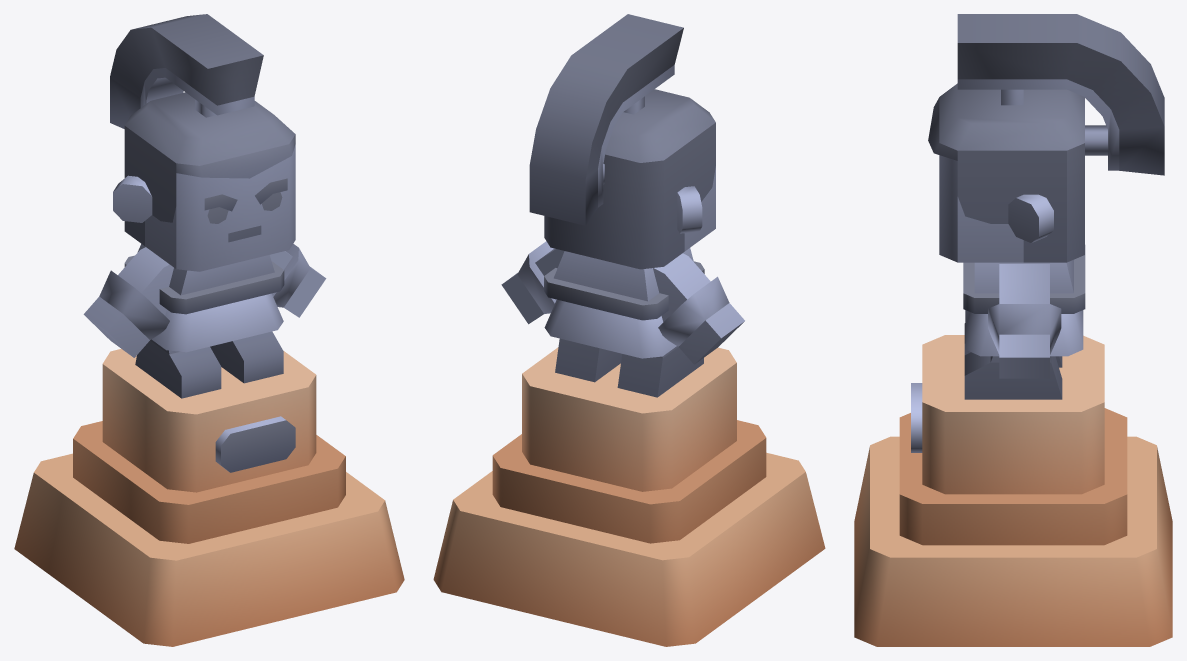
The model's file is ken_statue.glb.
3 views of the same model, side by side, from view 1: azimuth 30°, elevation 25°; view 2: azimuth 150°, elevation 25°; view 3: azimuth 270°, elevation 25° (orthographic). The views are drawn at different scales.
Visible parts, largest first — view 1: statue; view 2: statue; view 3: statue.
Boxes of the visible parts, bbox=[...] form: statue: bbox=[14, 14, 404, 646]; statue: bbox=[433, 14, 825, 646]; statue: bbox=[854, 14, 1172, 646].
Bounding box in the file's own units: 0.7 × 1.34 × 0.7.
Materials: 1 (1 with a texture image).
